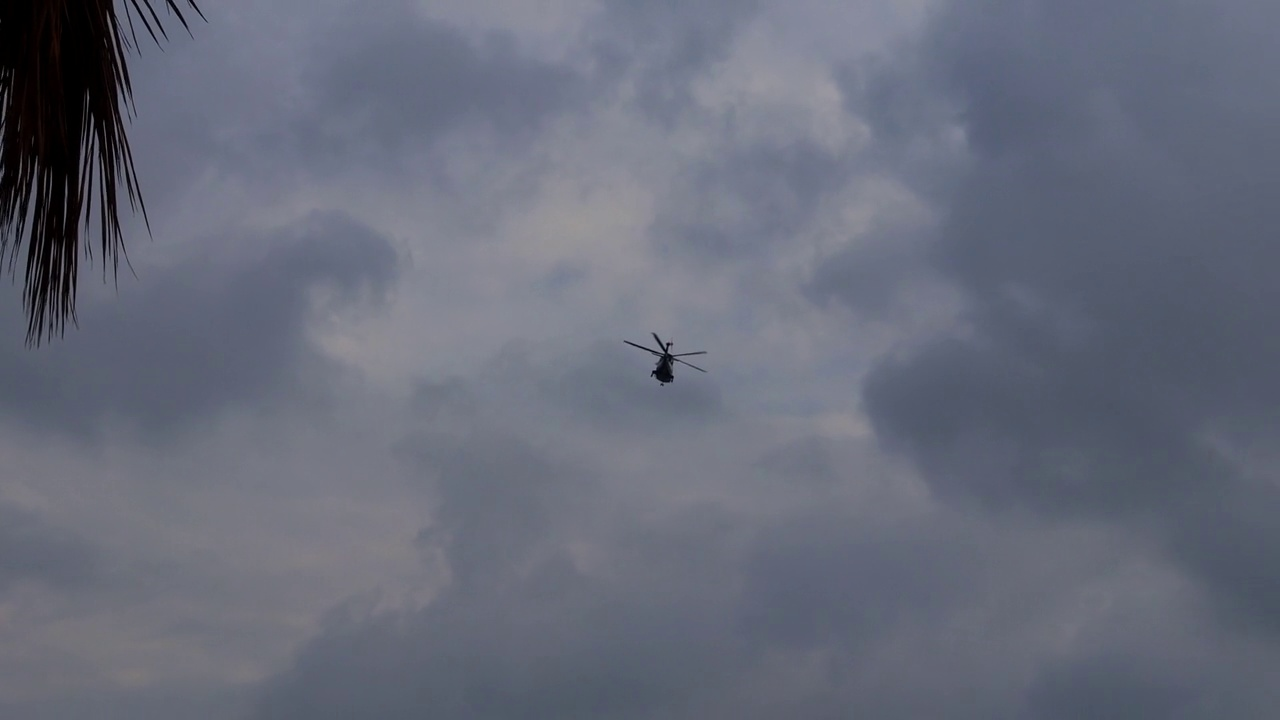heli: (623, 331, 708, 388)
